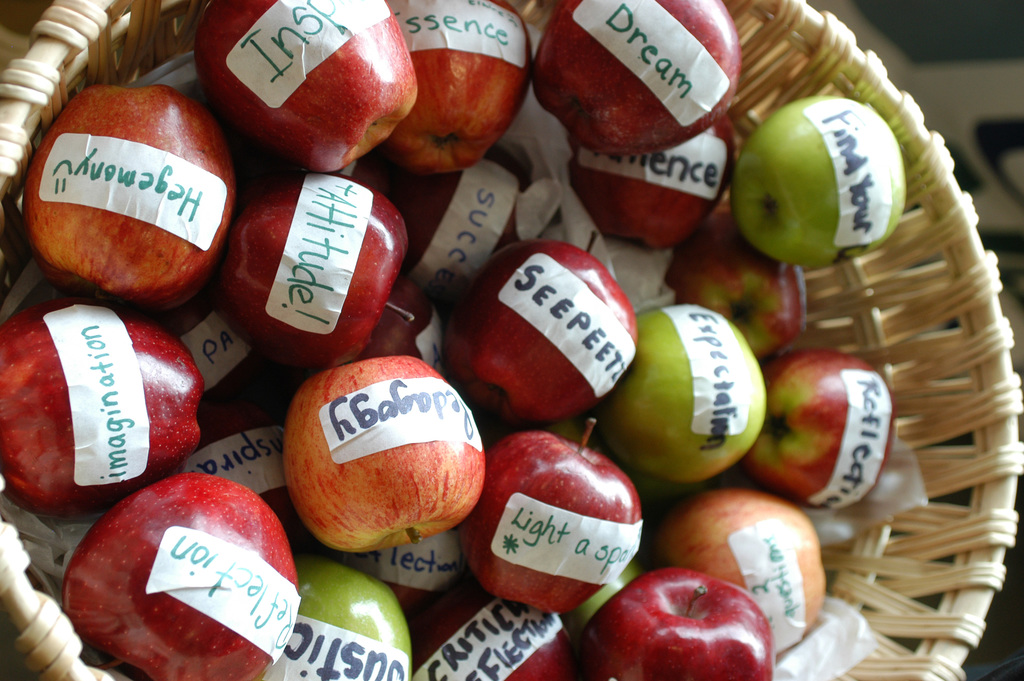Apple: (0, 0, 911, 680), (588, 579, 769, 681)
